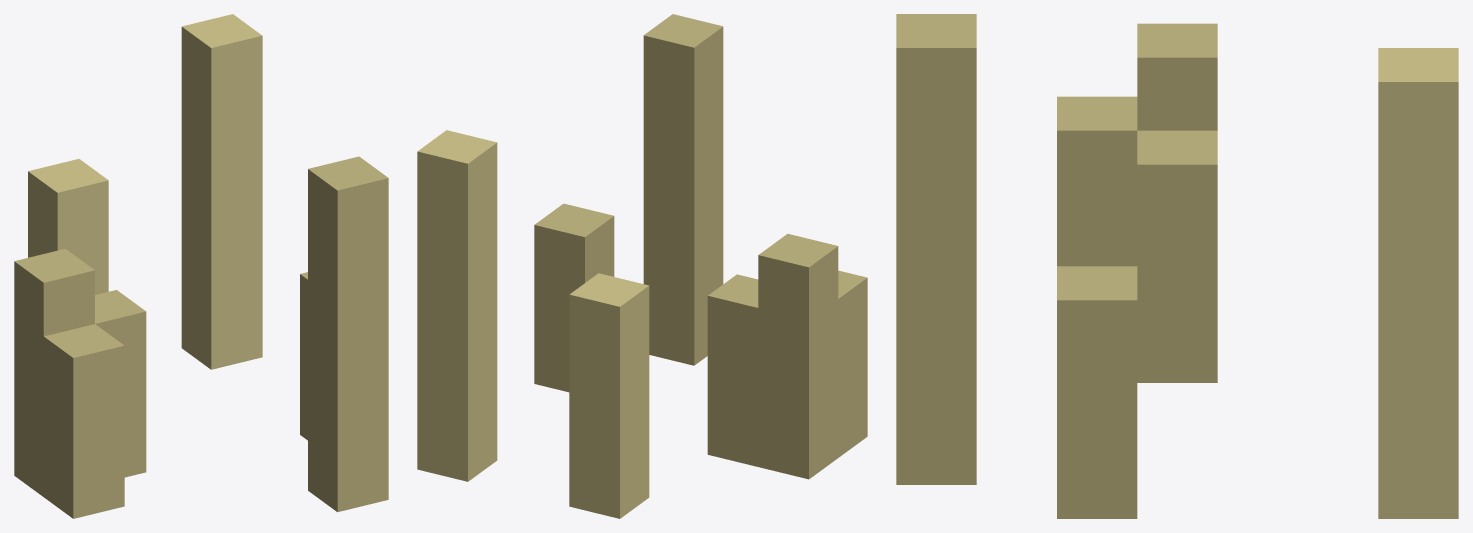
File: cebada_silvestre_04.glb
The picture shows the model from 3 angles, left to right: view 1: azimuth 30°, elevation 25°; view 2: azimuth 150°, elevation 25°; view 3: azimuth 270°, elevation 25°; orthographic projection. The views are drawn at different scales.
Visible parts, largest first — view 1: cebada_silvestre_04; view 2: cebada_silvestre_04; view 3: cebada_silvestre_04.
Part boxes in pixels (box(x1,y1,x2,y2)): cebada_silvestre_04: box(14, 14, 388, 518); cebada_silvestre_04: box(417, 14, 867, 518); cebada_silvestre_04: box(896, 14, 1458, 518).
Bounding box in the file's own units: 0.6 × 0.6 × 0.7.
